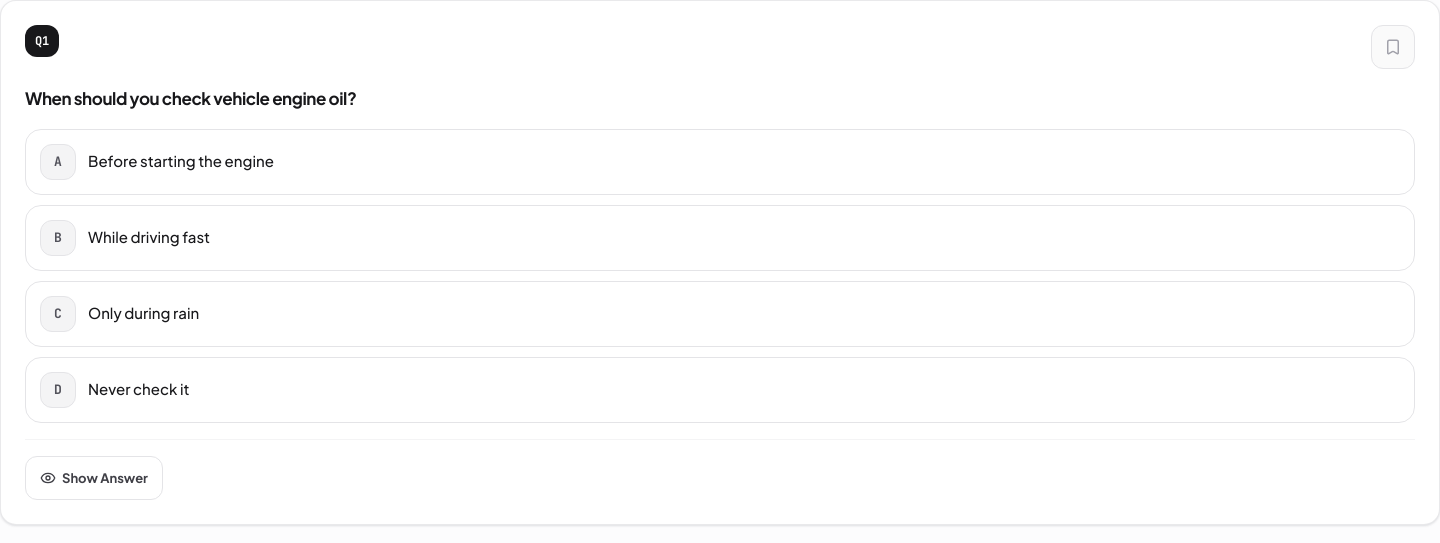
Test: QuestionCard Component › provides feedback when selecting correct answer
# Option A is correct
Click the text "Before starting the engine" at (181, 161), box [88,151,274,170]
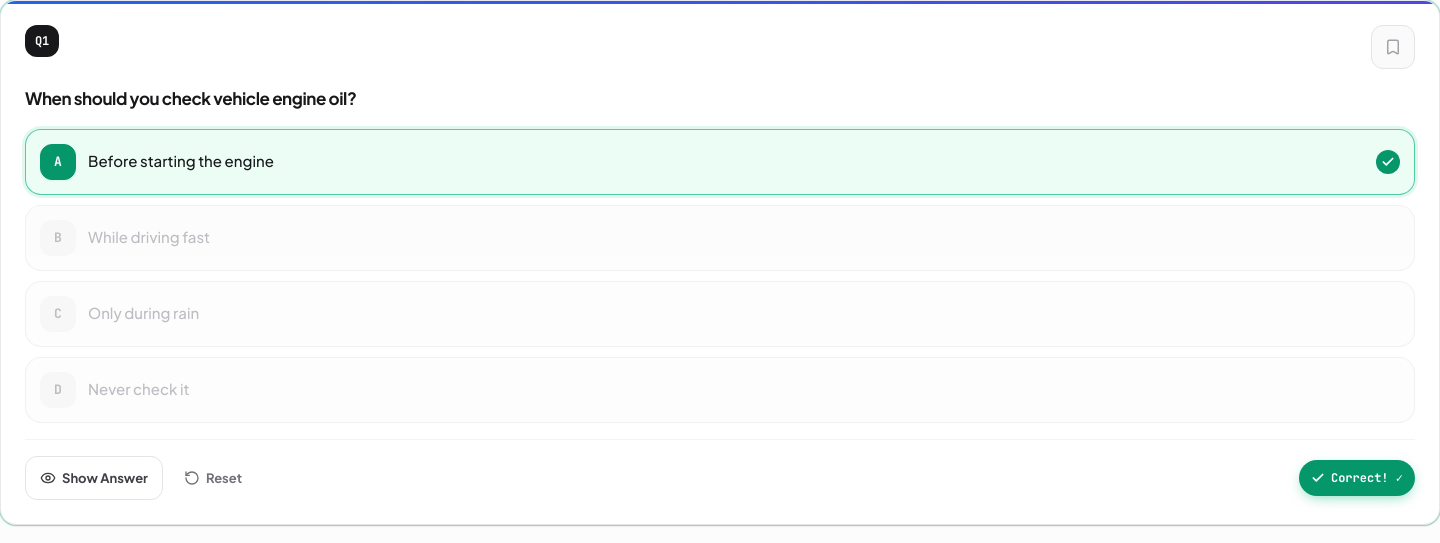
Now the text "Correct! ✓" is shown, box [1299,460,1415,496]
